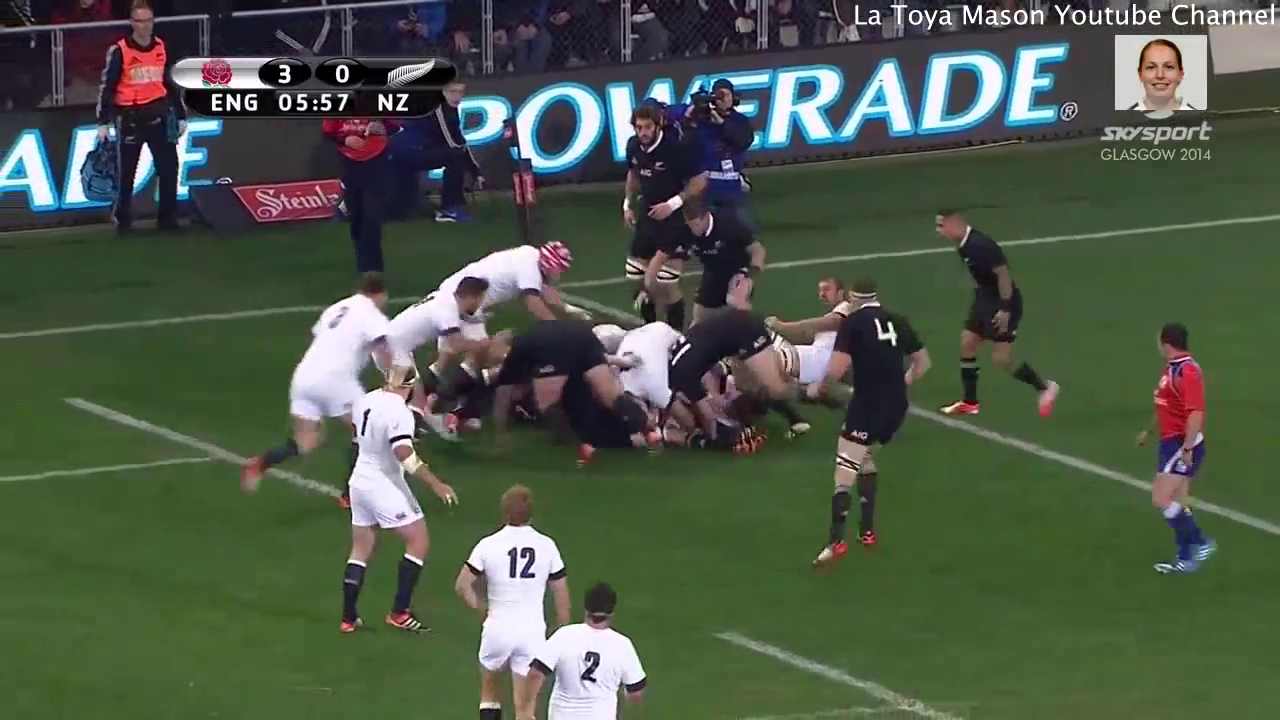player: (803, 279, 931, 576), (236, 268, 393, 487), (326, 355, 440, 641), (927, 209, 1064, 428), (455, 476, 574, 720), (1127, 317, 1224, 583), (527, 577, 651, 720), (616, 109, 688, 325), (658, 198, 763, 311), (450, 236, 574, 324), (381, 270, 490, 365)
ruck: (379, 279, 873, 469)
